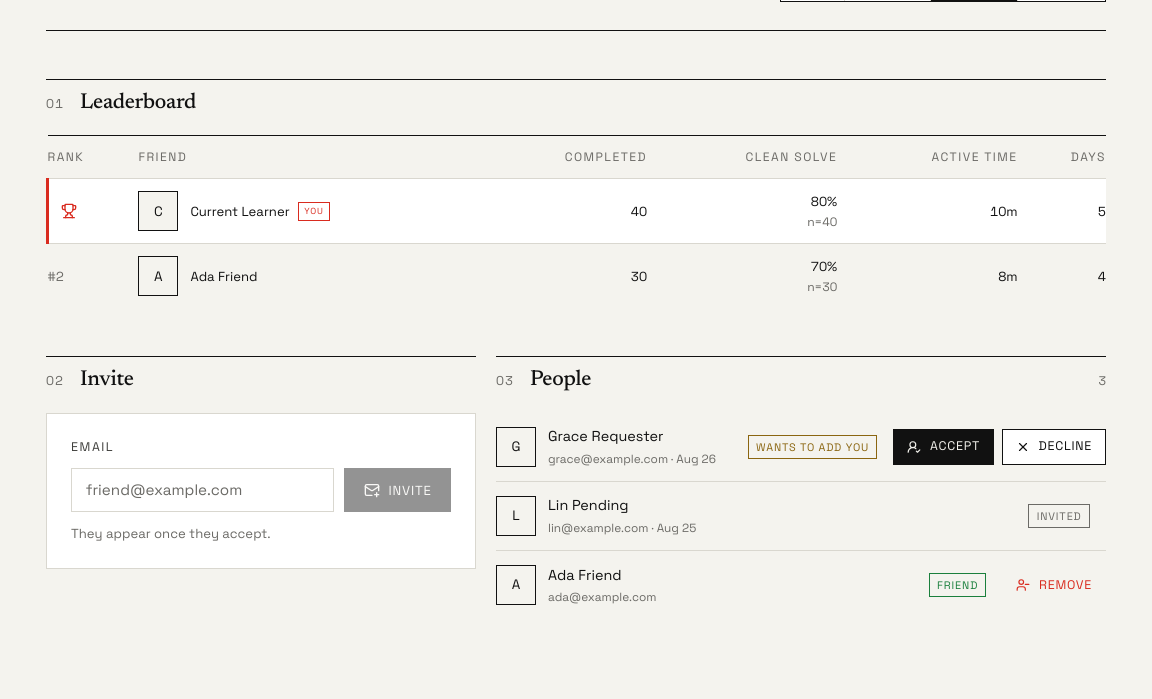
Test: FriendsPage › confirms and removes a friend
(page scrolled)
Check: the heading "People" is shown, box [530,369,591,393]
Click the button with aria-label "Remove Ada Friend": (1054, 585) [1002,567,1106,603]
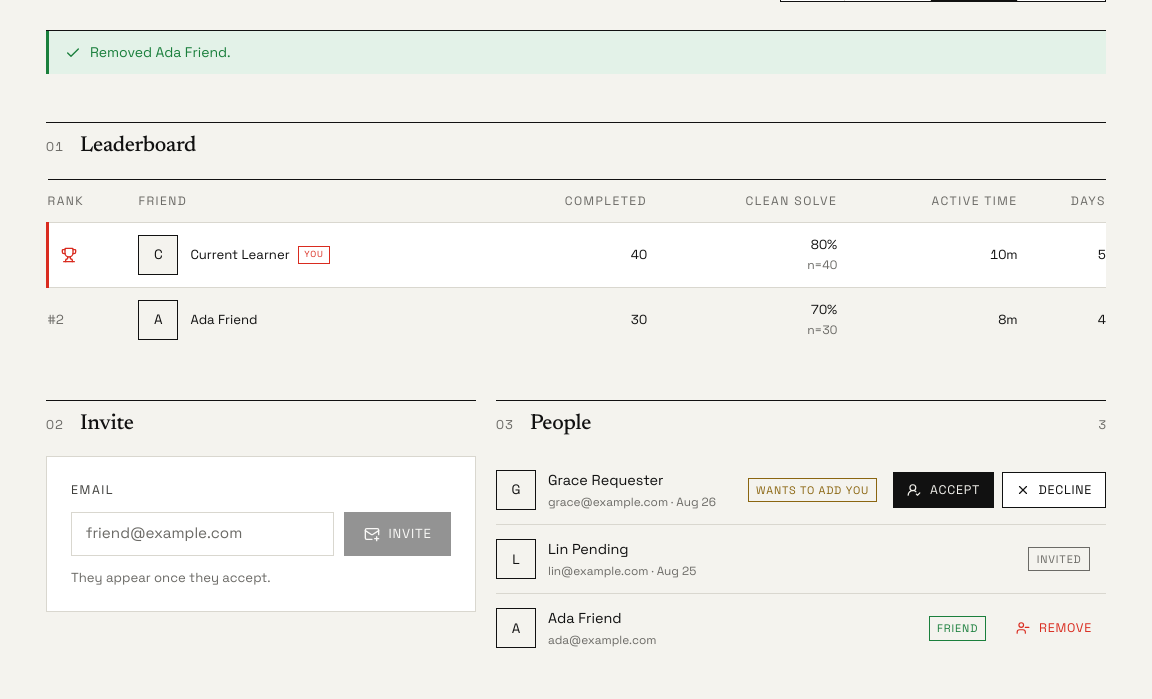
Check: the text "Removed Ada Friend." is shown, box [46,31,1106,74]
